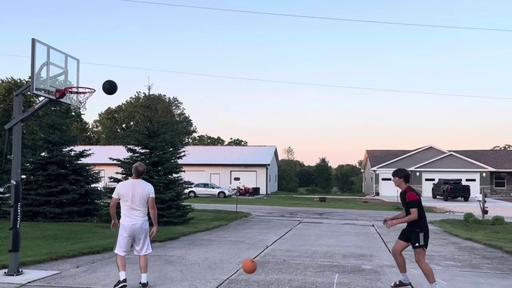ball: (242, 257, 257, 275), (102, 80, 118, 96)
human: (384, 168, 438, 288), (109, 162, 159, 288)
rim: (64, 88, 96, 112)
